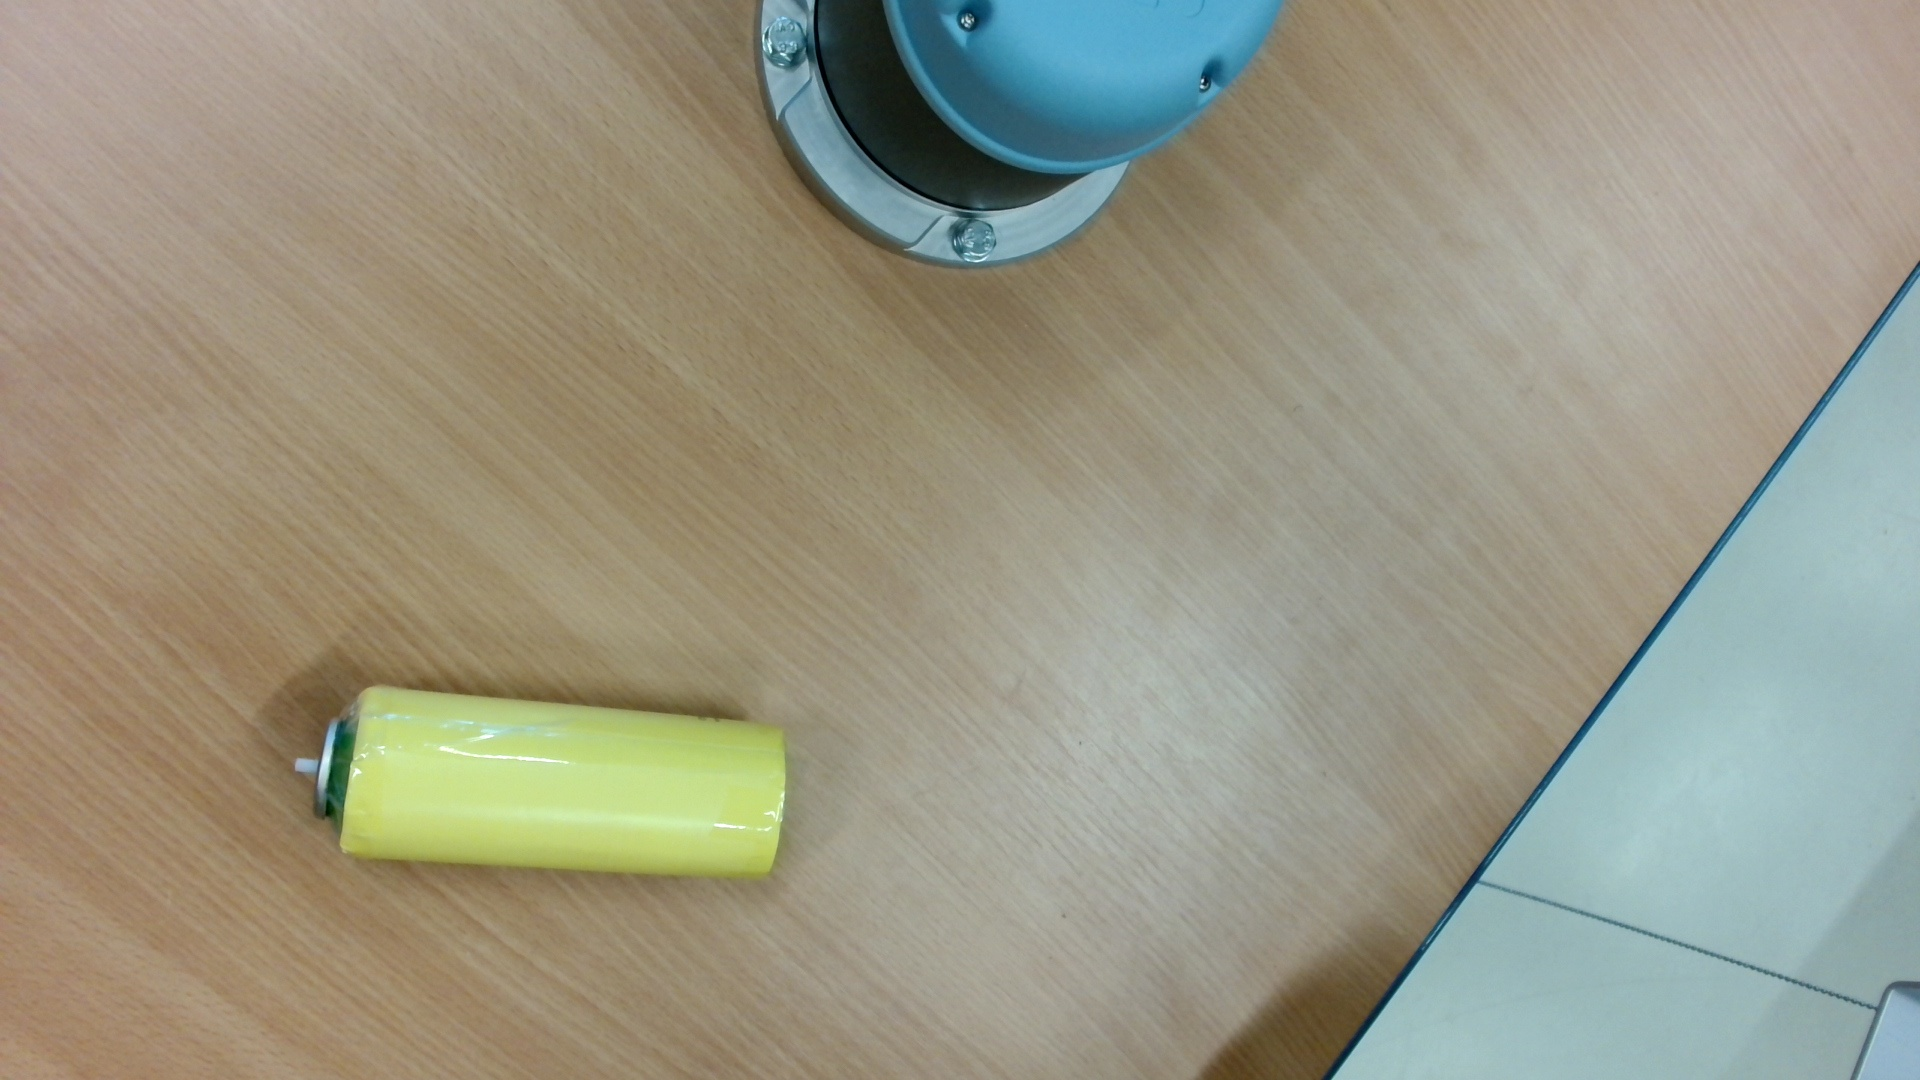Cylinder: (265, 670, 806, 897)
